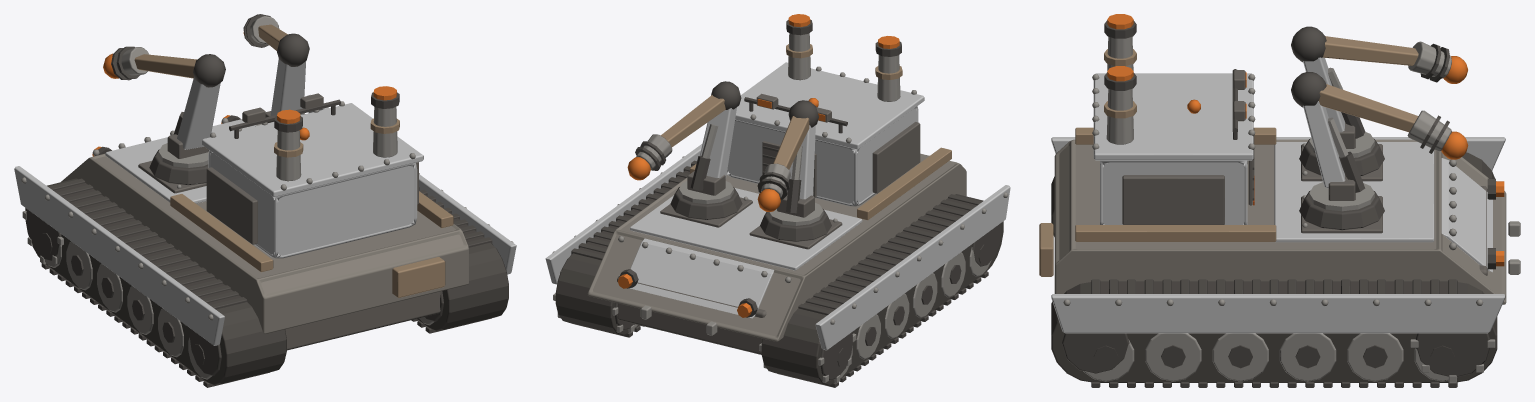
Rendered from crucible_builder_adv.glb.
The picture shows the model from 3 angles, left to right: view 1: azimuth 30°, elevation 25°; view 2: azimuth 150°, elevation 25°; view 3: azimuth 270°, elevation 25°; orthographic projection. The views are drawn at different scales.
Visible parts, largest first — view 1: Body; view 2: Body; view 3: Body.
Boxes of the visible parts, x1,y1,x2,y2 form: Body: (14, 14, 516, 387); Body: (545, 14, 1010, 387); Body: (1039, 14, 1520, 387).
Bounding box in the file's own units: 1.9 × 1.43 × 2.34.
